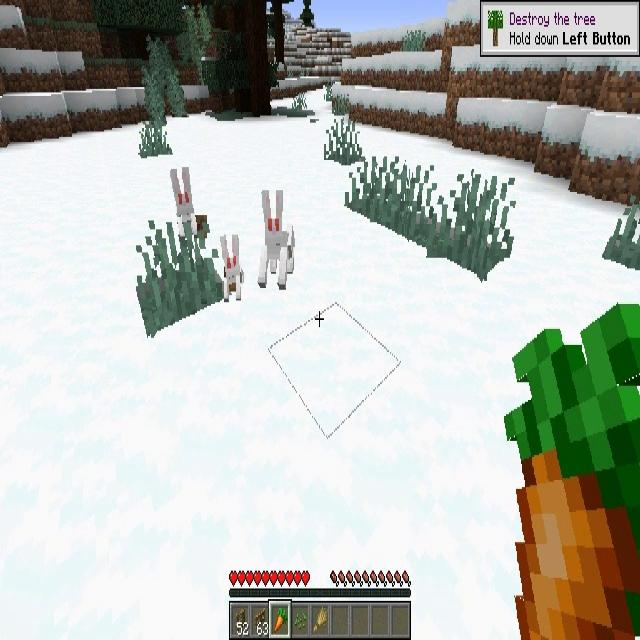rabbit: (260, 188, 296, 290), (170, 170, 195, 248), (218, 233, 242, 300)
